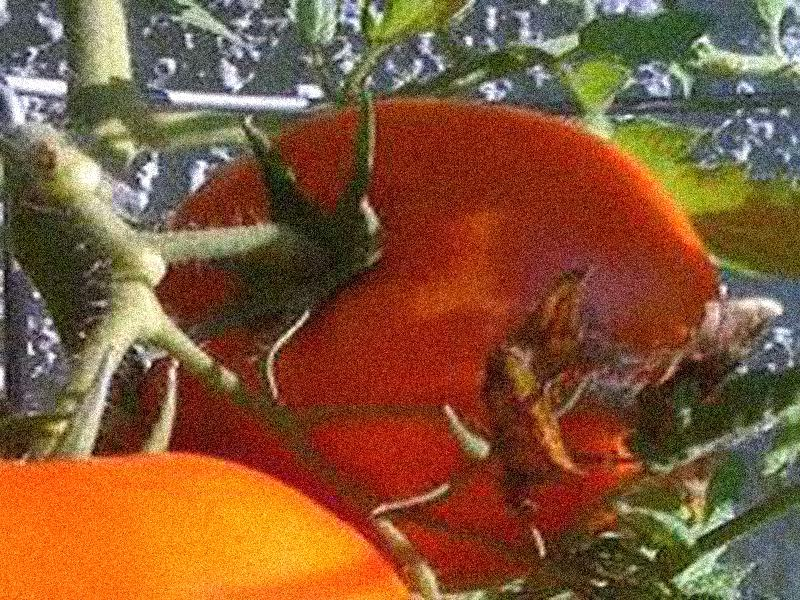Tomato: (151, 96, 726, 583)
